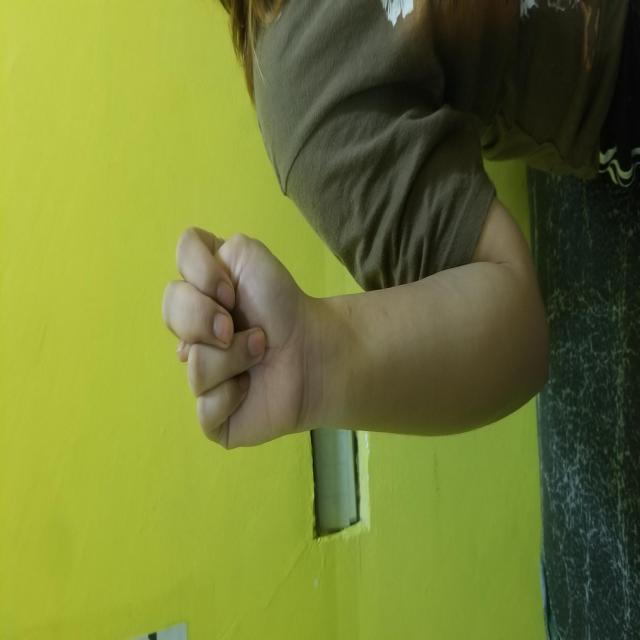N: (196, 162, 416, 301)
